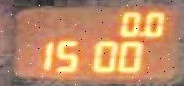-: (137, 29, 145, 37)
0: (88, 40, 117, 71), (117, 39, 140, 72), (117, 11, 140, 36), (144, 11, 164, 37)
1: (42, 39, 53, 72)
5: (55, 39, 82, 73)
